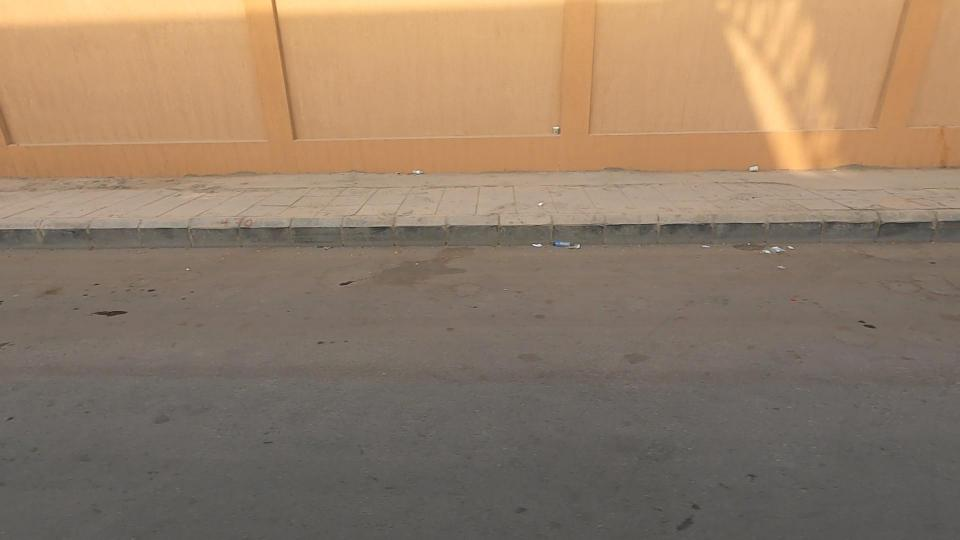GARBAGE: (668, 193, 847, 314), (473, 215, 626, 284), (383, 150, 462, 199)
